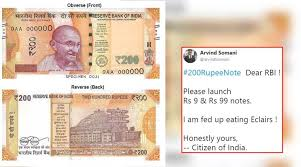twoHundred: (8, 19, 146, 67)
